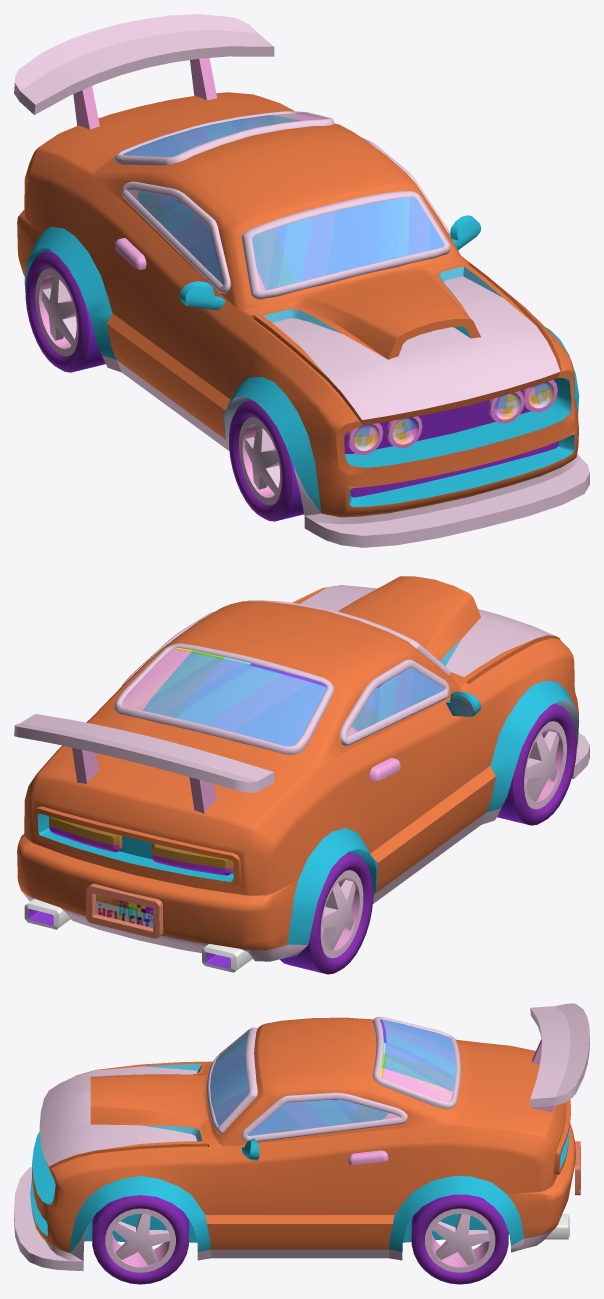
The model's file is Hellcat_GRP.fbx.
3 renders of one model, top to bottom at view 1: azimuth 30°, elevation 25°; view 2: azimuth 150°, elevation 25°; view 3: azimuth 270°, elevation 25°, orthographic. The views are drawn at different scales.
Visible parts, largest first — view 1: Hellcat_mesh, Hellcat_Wheel_BR_mesh, Hellcat_Wheel_FR_mesh; view 2: Hellcat_mesh, Hellcat_Wheel_BR_mesh, Hellcat_Wheel_FR_mesh; view 3: Hellcat_mesh, Hellcat_Wheel_FL_mesh, Hellcat_Wheel_BL_mesh.
Part boxes in pixels (x1,y1,x2,y2): Hellcat_mesh: [14, 14, 589, 547]; Hellcat_Wheel_BR_mesh: [25, 250, 105, 372]; Hellcat_Wheel_FR_mesh: [229, 400, 303, 521]; Hellcat_mesh: [14, 576, 589, 972]; Hellcat_Wheel_BR_mesh: [280, 852, 373, 974]; Hellcat_Wheel_FR_mesh: [497, 704, 576, 825]; Hellcat_mesh: [14, 1003, 589, 1271]; Hellcat_Wheel_FL_mesh: [92, 1195, 188, 1284]; Hellcat_Wheel_BL_mesh: [411, 1194, 508, 1284].
Bounding box in the file's own units: 1.51 × 1.21 × 3.23.
